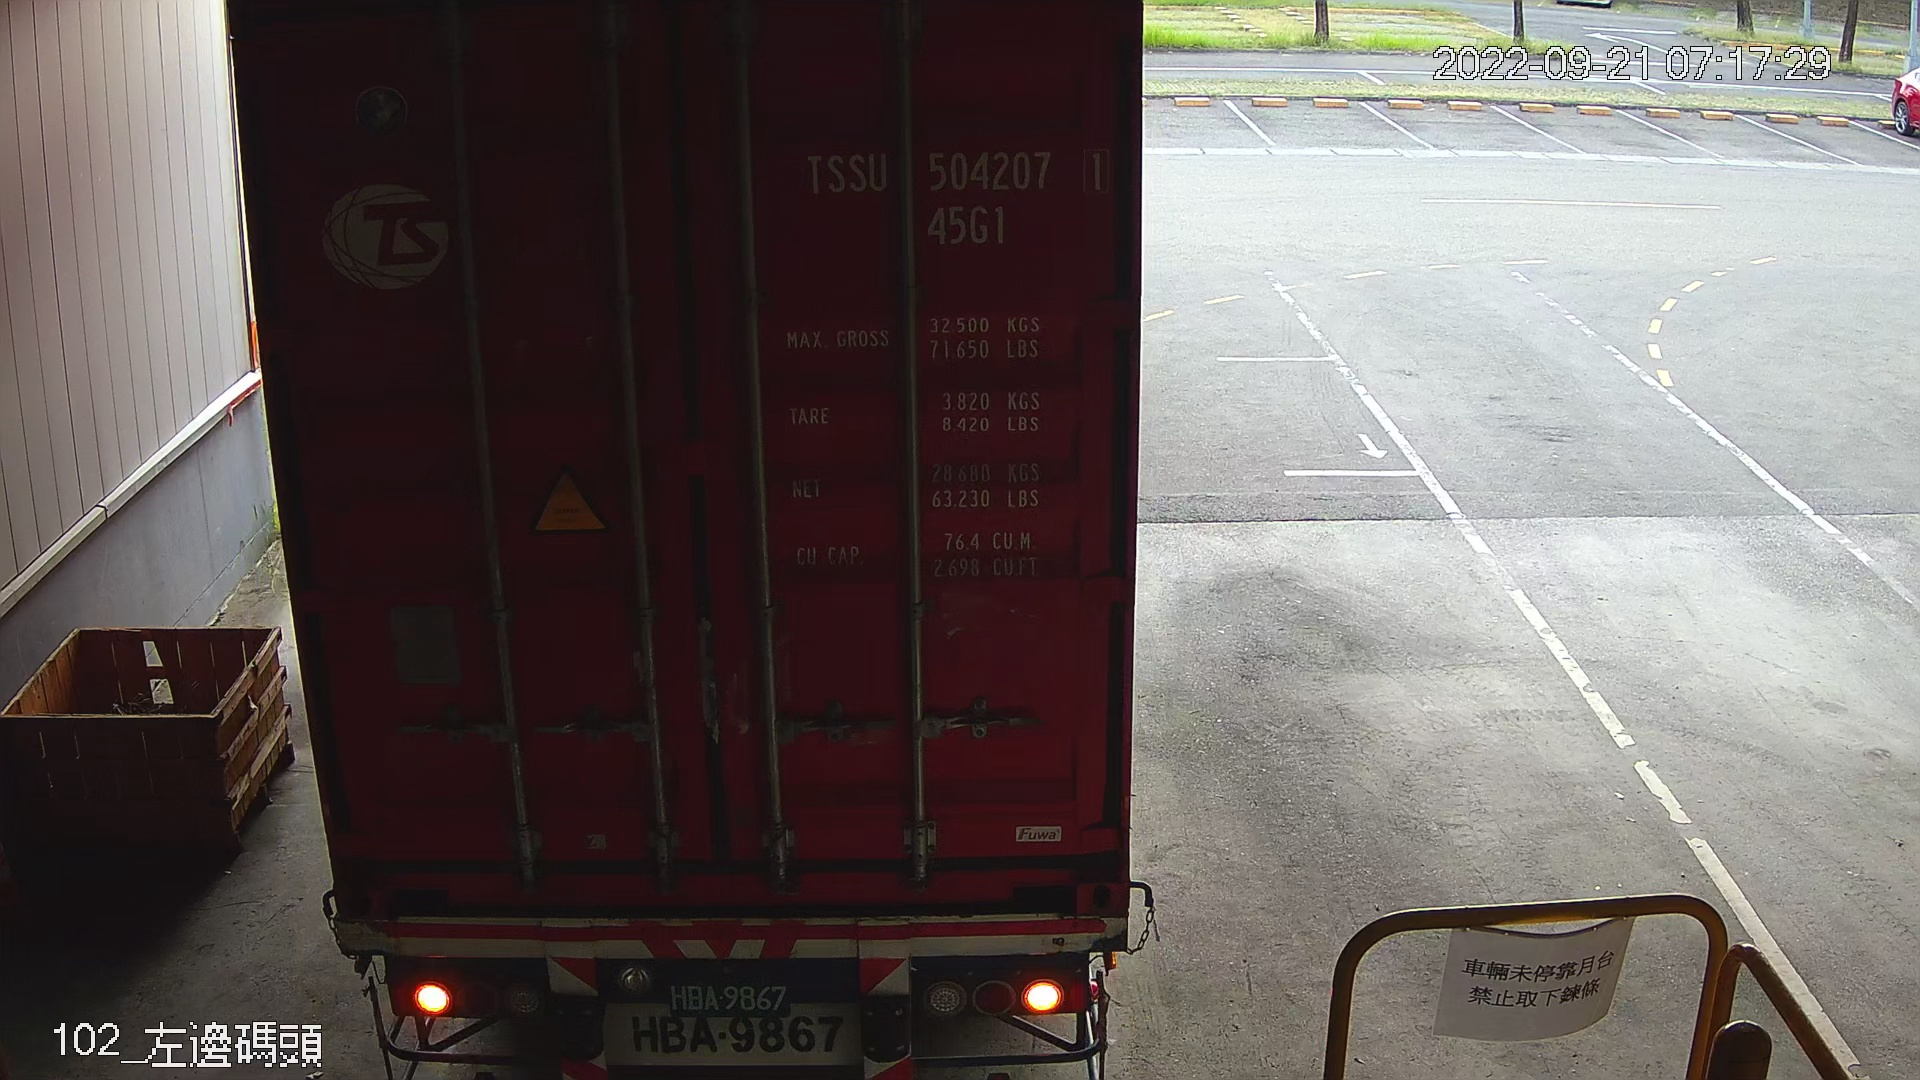container: (785, 135, 1127, 252)
